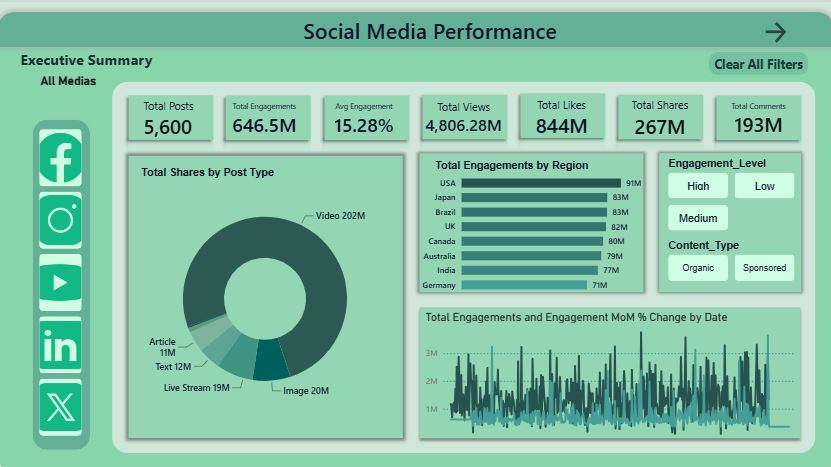

Layout of this report page (visuals, bound fields, positions):
{"tool":"powerbi","page":{"name":"Executive Summary ","canvas":[1280,720],"ordinal":0},"visuals":[{"type":"cardVisual","fields":{"Data":["_Measures.Total Engagements"]},"box":[347.7,140.3,132.5,68.6],"z":0},{"type":"shape","box":[63.9,171.5,93.5,500.5],"z":0,"group":"g1"},{"type":"cardVisual","fields":{"Data":["_Measures.Avg Engagement"]},"box":[498.6,140.8,128.9,68.8],"z":1000},{"type":"cardVisual","fields":{"Data":["_Measures.Total Views"]},"box":[636.1,140.3,151.2,62.4],"z":2000},{"type":"cardVisual","fields":{"Data":["_Measures.Total Likes"]},"box":[795.4,135.8,124.8,73.9],"z":3000},{"type":"cardVisual","fields":{"Data":["_Measures.Total Shares"]},"box":[943.1,140.8,122.5,65.1],"z":4000},{"type":"cardVisual","fields":{"Data":["_Measures.Total Comments"]},"box":[1089.9,140.8,121.6,68.8],"z":5000},{"type":"cardVisual","fields":{"Data":["_Measures.Total Posts"]},"box":[216.7,140.3,126.3,67],"z":6000},{"type":"donutChart","fields":{"Category":["fact_posts.Post_Type"],"Y":["_Measures.Total Shares"]},"box":[216.9,239.7,396.7,405.3],"z":7000},{"type":"textbox","box":[225.4,239.5,240.9,29.8],"z":8000},{"type":"clusteredBarChart","fields":{"Category":["dim_location.Region"],"Y":["_Measures.Total Engagements"]},"box":[643.5,240.9,338.7,201.3],"z":9000},{"type":"textbox","box":[663.3,229.6,256.5,39.7],"z":10000},{"type":"advancedSlicerVisual","fields":{"Values":["fact_posts.Engagement_Level"]},"box":[1012,232.4,199.8,113.4],"z":11000},{"type":"advancedSlicerVisual","fields":{"Values":["fact_posts.Content_Type"]},"box":[1012,355.7,199.8,66.6],"z":12000},{"type":"lineChart","fields":{"Category":["Dim_Date.Date"],"Y":["_Measures.Total Engagements"],"Y2":["_Measures.Engagement MoM % Change"]},"box":[649.3,459.5,562.2,191.2],"z":13000},{"type":"group","id":"g1","title":"Group 1","box":[63.9,171.5,93.5,500.5],"z":14000},{"type":"textbox","box":[467.3,14.3,398.5,55.9],"z":15000},{"type":"advancedSlicerVisual","fields":{"Values":["dim_platform.Image URL"]},"box":[73.3,185.5,73.3,467.7],"z":15000,"group":"g1"},{"type":"textbox","box":[35.8,65.9,230.8,40.1],"z":16000},{"type":"cardVisual","fields":{"Data":["_Measures.Title image"]},"box":[45.9,90.3,150.5,50.2],"z":17000},{"type":"actionButton","box":[1076.5,74.5,147.6,34.4],"z":18000},{"type":"actionButton","box":[1151,25.8,48.7,40.1],"z":19000}]}

Visuals, with their boxes in screenshot pixels (x1, y1, x2, y2), scaled from the page's 1280x720 canvas onto the 831x467 screenshot:
cardVisual - _Measures.Total Engagements: (226,91,312,135)
shape: (41,111,102,436)
cardVisual - _Measures.Avg Engagement: (324,91,407,136)
cardVisual - _Measures.Total Views: (413,91,511,131)
cardVisual - _Measures.Total Likes: (516,88,597,136)
cardVisual - _Measures.Total Shares: (612,91,692,134)
cardVisual - _Measures.Total Comments: (708,91,787,136)
cardVisual - _Measures.Total Posts: (141,91,223,134)
donutChart - fact_posts.Post_Type x _Measures.Total Shares: (141,155,398,418)
textbox: (146,155,303,175)
clusteredBarChart - dim_location.Region x _Measures.Total Engagements: (418,156,638,287)
textbox: (431,149,597,175)
advancedSlicerVisual - fact_posts.Engagement_Level: (657,151,787,224)
advancedSlicerVisual - fact_posts.Content_Type: (657,231,787,274)
lineChart - Dim_Date.Date x _Measures.Total Engagements: (422,298,787,422)
"Group 1" group: (41,111,102,436)
textbox: (303,9,562,46)
advancedSlicerVisual - dim_platform.Image URL: (48,120,95,424)
textbox: (23,43,173,69)
cardVisual - _Measures.Title image: (30,59,128,91)
actionButton: (699,48,795,71)
actionButton: (747,17,779,43)
